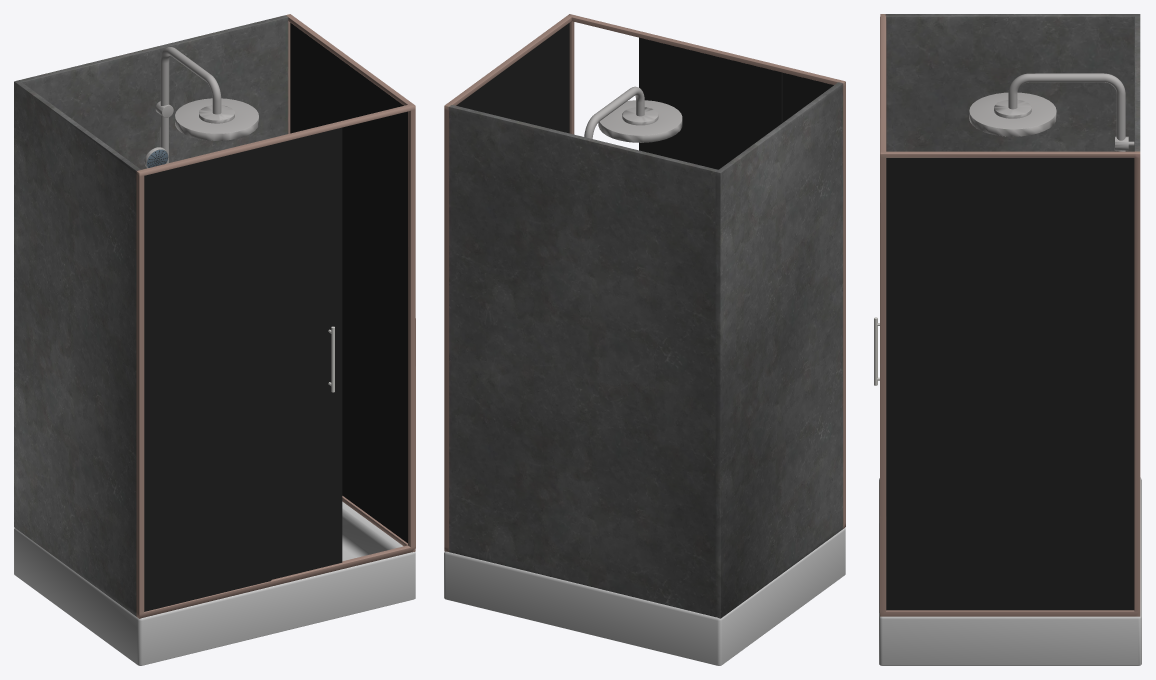
The model's file is shower.glb.
3 renders of one model, left to right at view 1: azimuth 30°, elevation 25°; view 2: azimuth 150°, elevation 25°; view 3: azimuth 270°, elevation 25°, orthographic. The views are drawn at different scales.
Visible parts, largest first — view 1: Object_3, Object_6, Object_2, Object_4; view 2: Object_6, Object_3, Object_2, Object_4; view 3: Object_3, Object_6, Object_2, Object_4.
Part boxes in pixels (x1=…): Object_3: x1=144, y1=23, x2=407, y2=611; Object_6: x1=14, y1=14, x2=415, y2=618; Object_2: x1=14, y1=501, x2=415, y2=665; Object_4: x1=144, y1=47, x2=258, y2=168; Object_6: x1=444, y1=14, x2=845, y2=618; Object_3: x1=456, y1=23, x2=833, y2=169; Object_2: x1=444, y1=528, x2=845, y2=665; Object_4: x1=584, y1=86, x2=682, y2=142; Object_3: x1=886, y1=158, x2=1134, y2=610; Object_6: x1=874, y1=14, x2=1140, y2=616; Object_2: x1=879, y1=477, x2=1141, y2=665; Object_4: x1=969, y1=73, x2=1134, y2=151.
Size of the model in its own units: 1.3 by 2.26 by 1.05.
4 materials, 4 textured.
